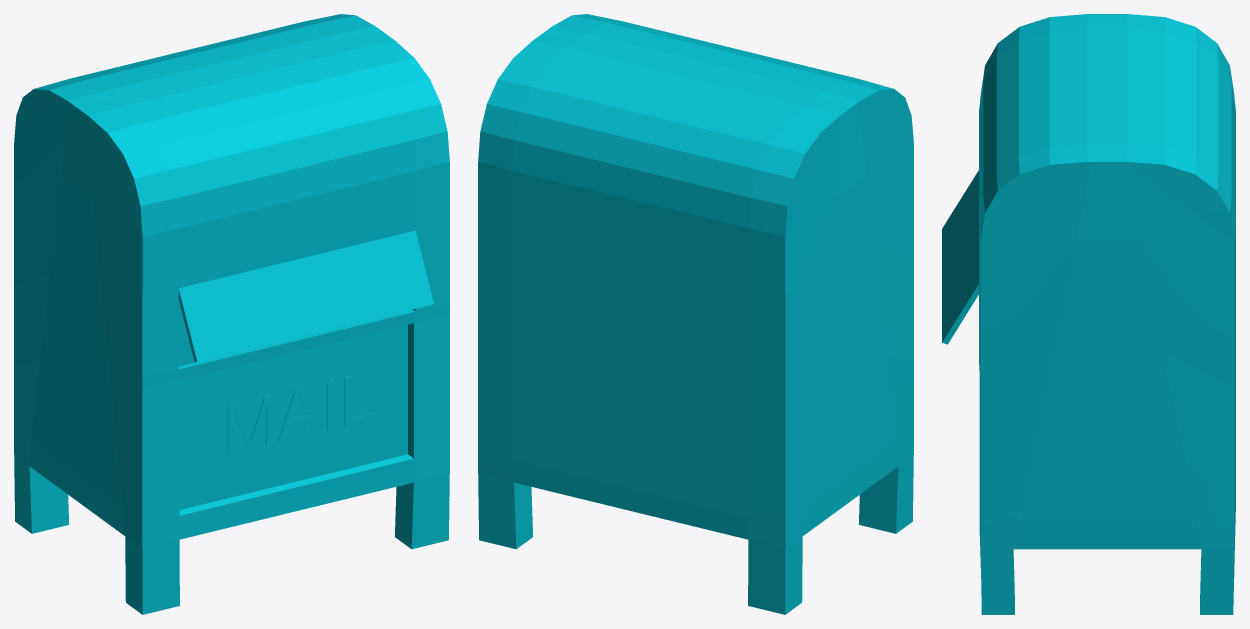
File: MailBox.fbx
3 renders of one model, left to right at view 1: azimuth 30°, elevation 25°; view 2: azimuth 150°, elevation 25°; view 3: azimuth 270°, elevation 25°, orthographic.
Parts seen in each view (by area): view 1: Mail box; view 2: Mail box; view 3: Mail box.
Part boxes in pixels (x1,y1,x2,y2): Mail box: (14,14,449,614); Mail box: (478,14,913,614); Mail box: (942,14,1235,614).
Size of the model in its own units: 4.33e+07 by 6.15e+07 by 3.6e+07.
